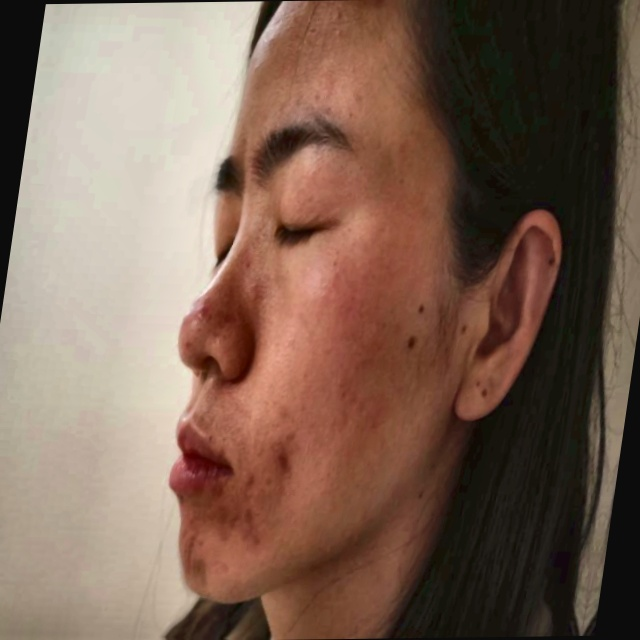comedone: (270, 442, 296, 480)
